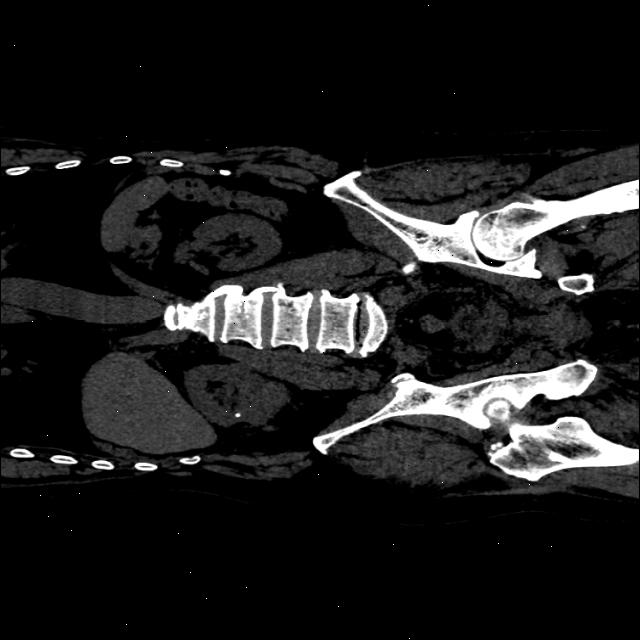kidneystone: (234, 411, 241, 416)
